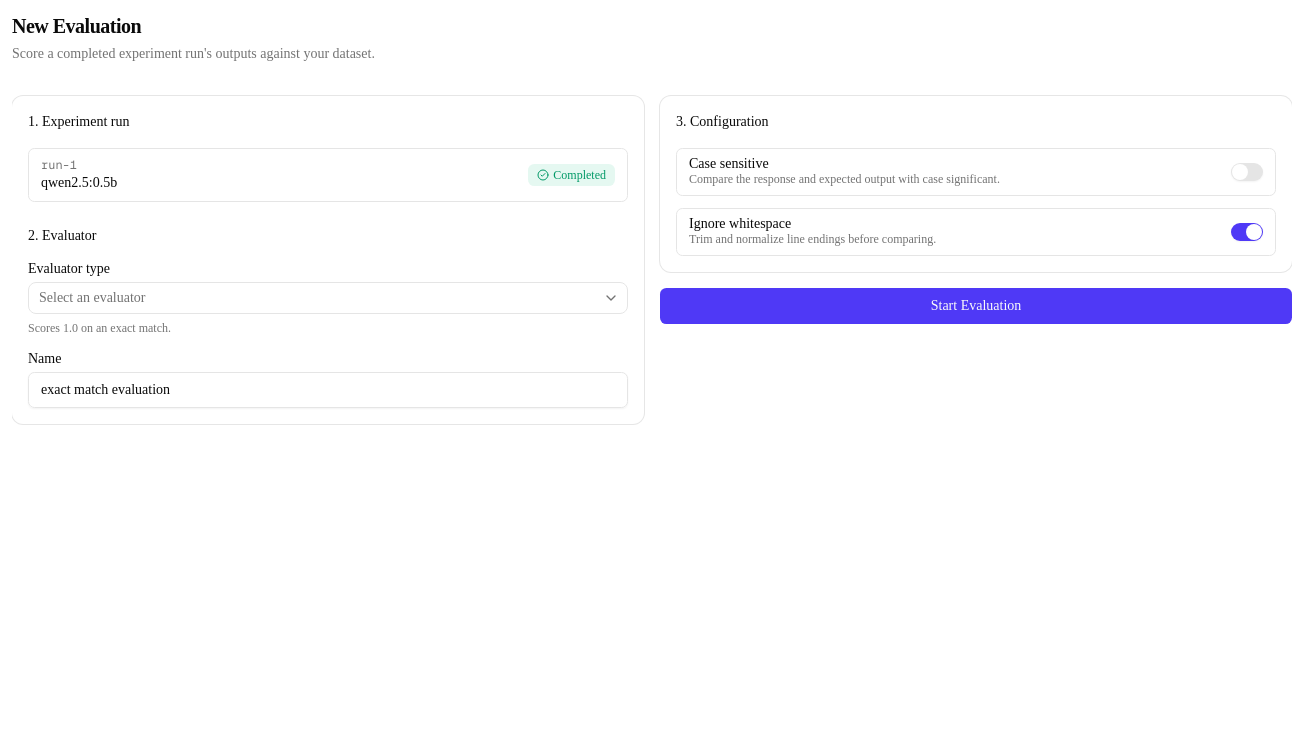
Test case: NewEvaluationPage › disables submission for llm_judge until a judge model is entered
Check: the text "qwen2.5:0.5b" is shown, box [41, 173, 117, 193]
Click the dropdown named "evaluator type": (92,298) [28, 282, 628, 314]
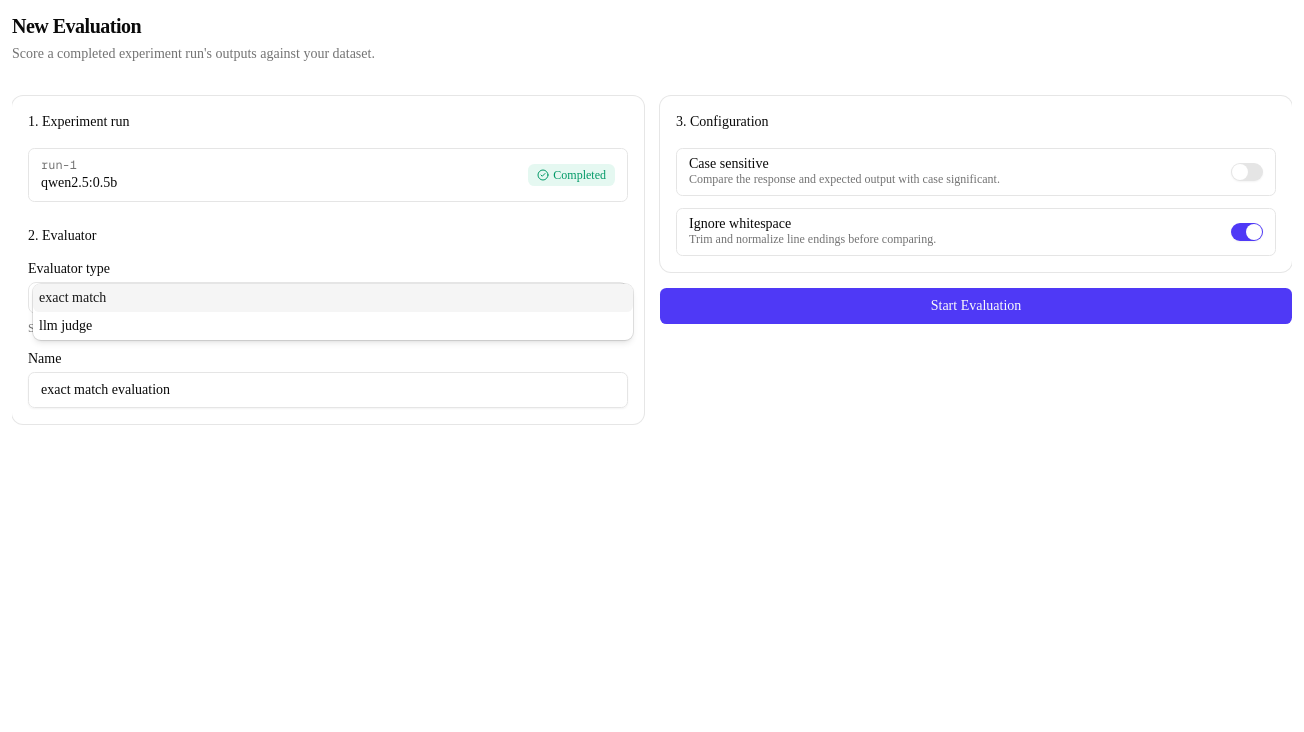
Click the option "llm judge": (66,326) [39, 318, 92, 333]
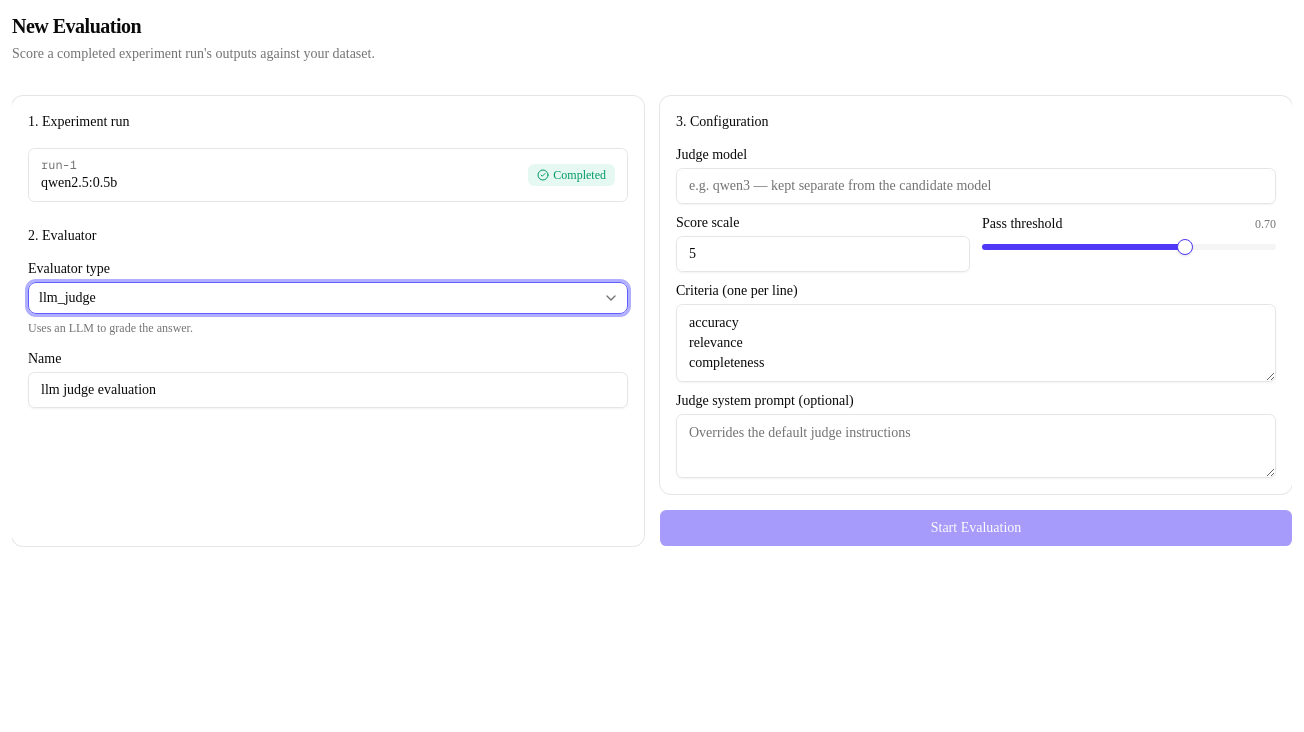
Check: the button "Start Evaluation" is disabled, box [660, 510, 1292, 546]
In the field labelled "Judge model": (976,186) [676, 168, 1276, 204], type "qwen3"
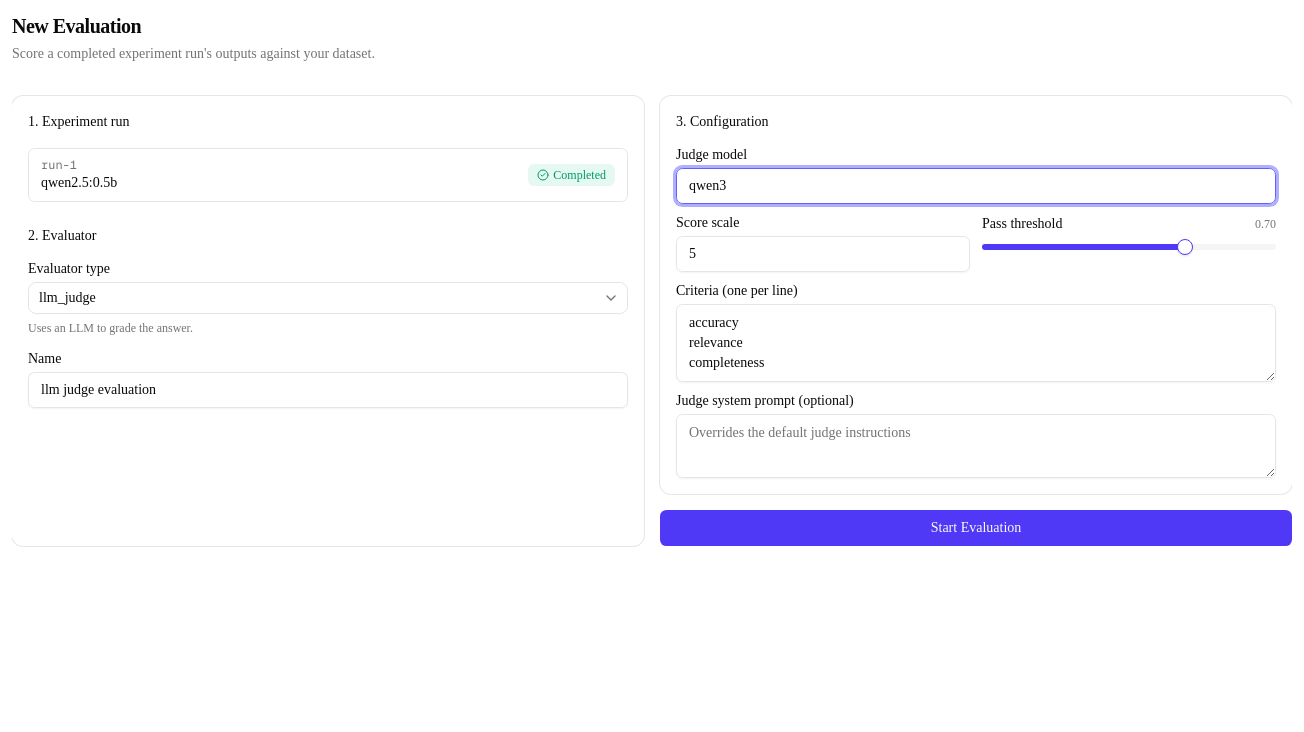
Check: the button "Start Evaluation" is enabled, box [660, 510, 1292, 546]
